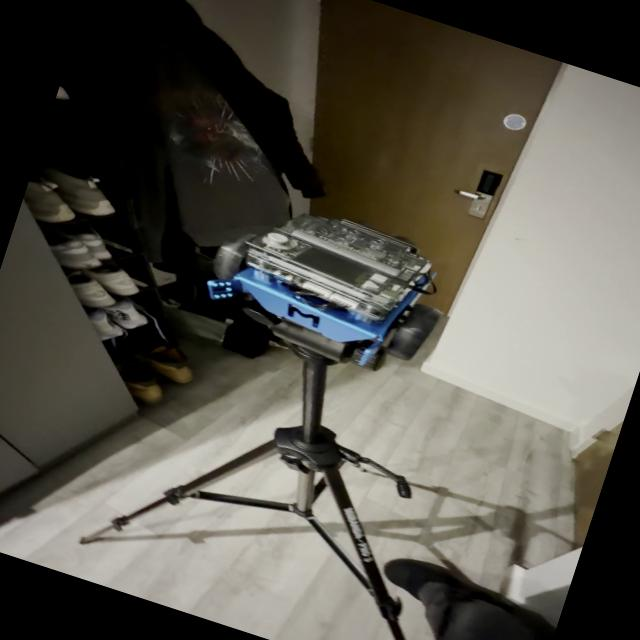mbot-detection: (190, 175, 472, 394)
